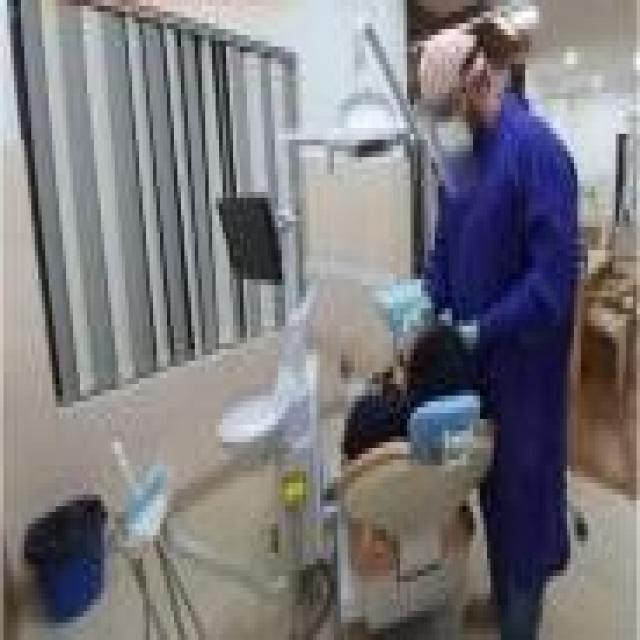Coverall: (359, 23, 592, 559)
Gloves: (369, 227, 490, 390)
Mask: (417, 116, 480, 163)
